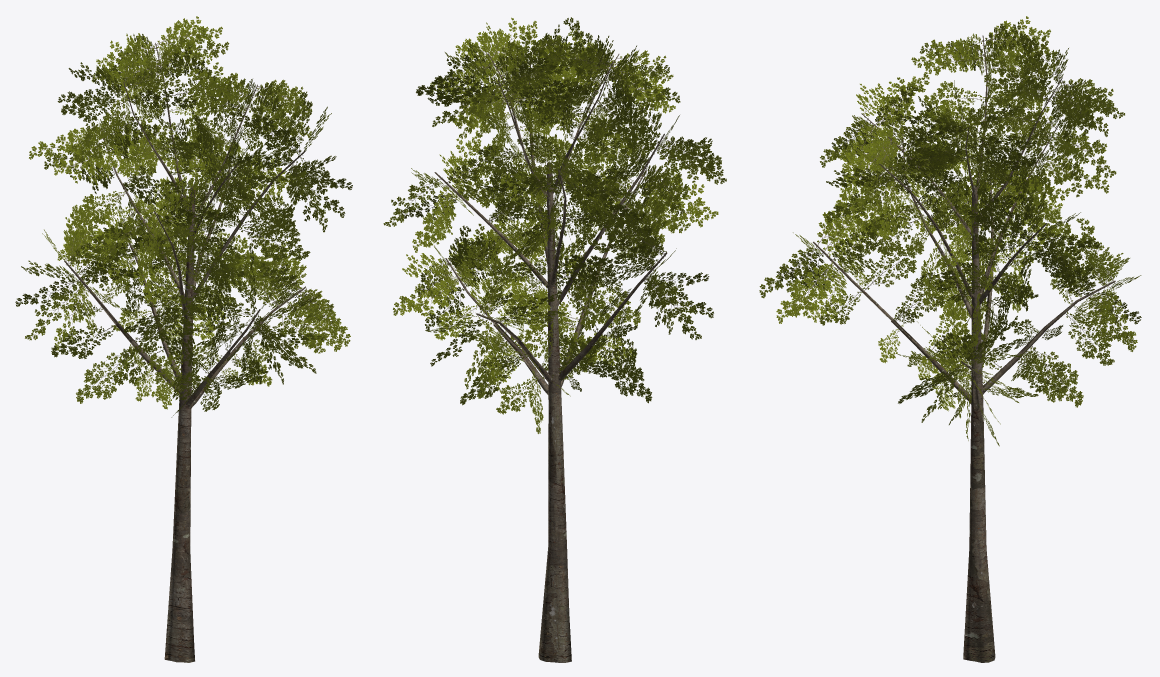
File: tree18.glb
3 renders of one model, left to right at view 1: azimuth 30°, elevation 25°; view 2: azimuth 150°, elevation 25°; view 3: azimuth 270°, elevation 25°, orthographic. The views are drawn at different scales.
Parts seen in each view (by area): view 1: tree18_0_LOD0.001; view 2: tree18_0_LOD0.001; view 3: tree18_0_LOD0.001.
Part boxes in pixels (x1=…): tree18_0_LOD0.001: x1=15, y1=16, x2=352, y2=662; tree18_0_LOD0.001: x1=383, y1=17, x2=726, y2=662; tree18_0_LOD0.001: x1=759, y1=16, x2=1141, y2=662.
Size of the model in its own units: 12.97 by 25.36 by 14.41.
2 materials, 2 textured.
